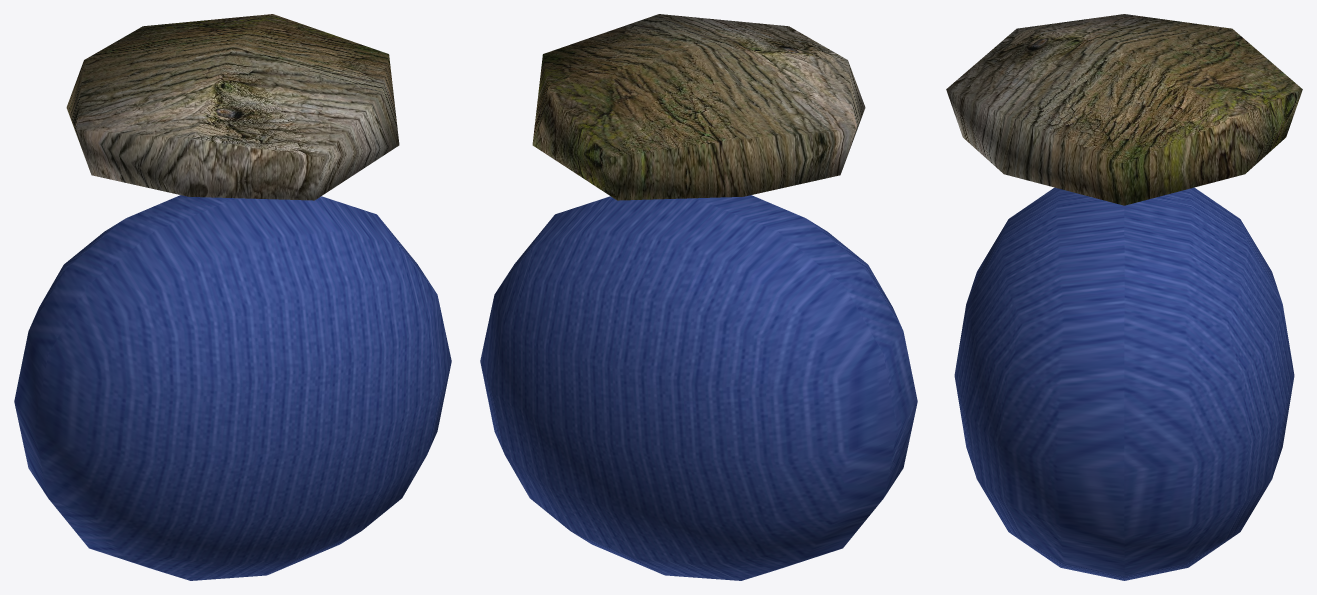
The model's file is house-alpine.glb.
The picture shows the model from 3 angles, left to right: view 1: azimuth 30°, elevation 25°; view 2: azimuth 150°, elevation 25°; view 3: azimuth 270°, elevation 25°; orthographic projection.
Parts seen in each view (by area): view 1: Cube, Cone; view 2: Cube, Cone; view 3: Cube, Cone.
Part boxes in pixels (left/top/right/bottom): Cube: left=14, top=195, right=451, bottom=580; Cone: left=66, top=14, right=399, bottom=200; Cube: left=480, top=195, right=917, bottom=580; Cone: left=532, top=14, right=865, bottom=200; Cube: left=954, top=187, right=1294, bottom=580; Cone: left=946, top=14, right=1302, bottom=205.
Size of the model in its own units: 2.69 by 3.34 by 2.11.
Materials: 2 (2 with a texture image).
